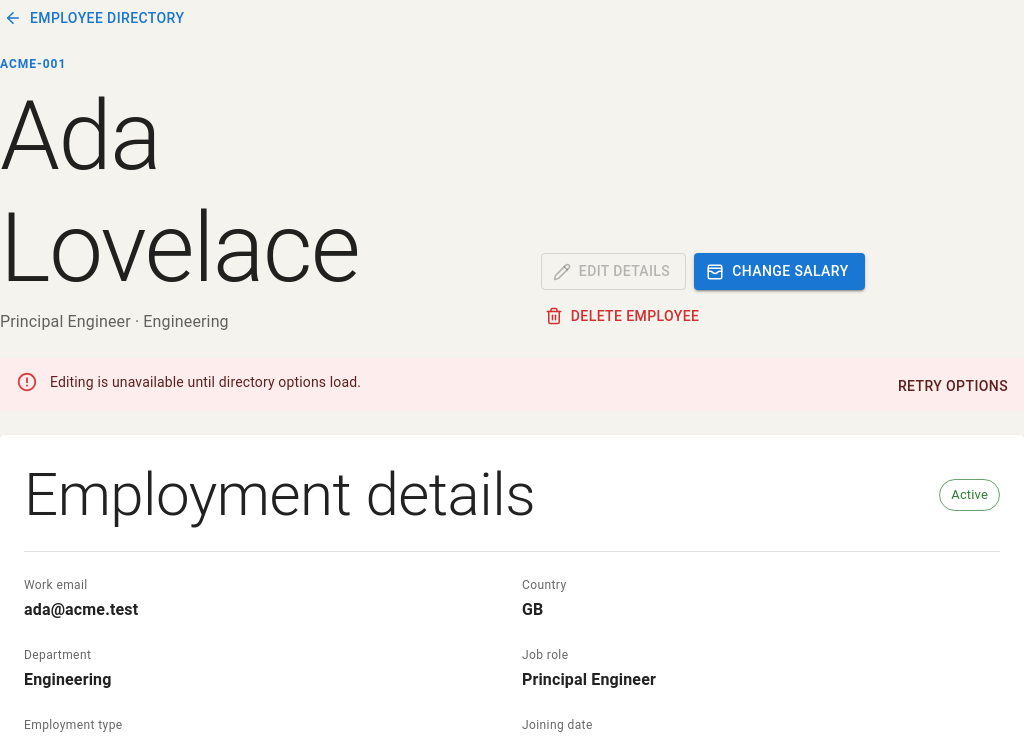
Test case: EmployeeDetails › blocks editing until failed directory options are retried successfully
The width and height of the screenshot is (1024, 740).
Expected: the heading "Ada Lovelace" is shown, 0,80 -> 359,304
Expected: the button "Edit details" is disabled, 541,254 -> 686,290
Click the button "Retry options".
click(953, 387)  # box 890,368 -> 1016,405
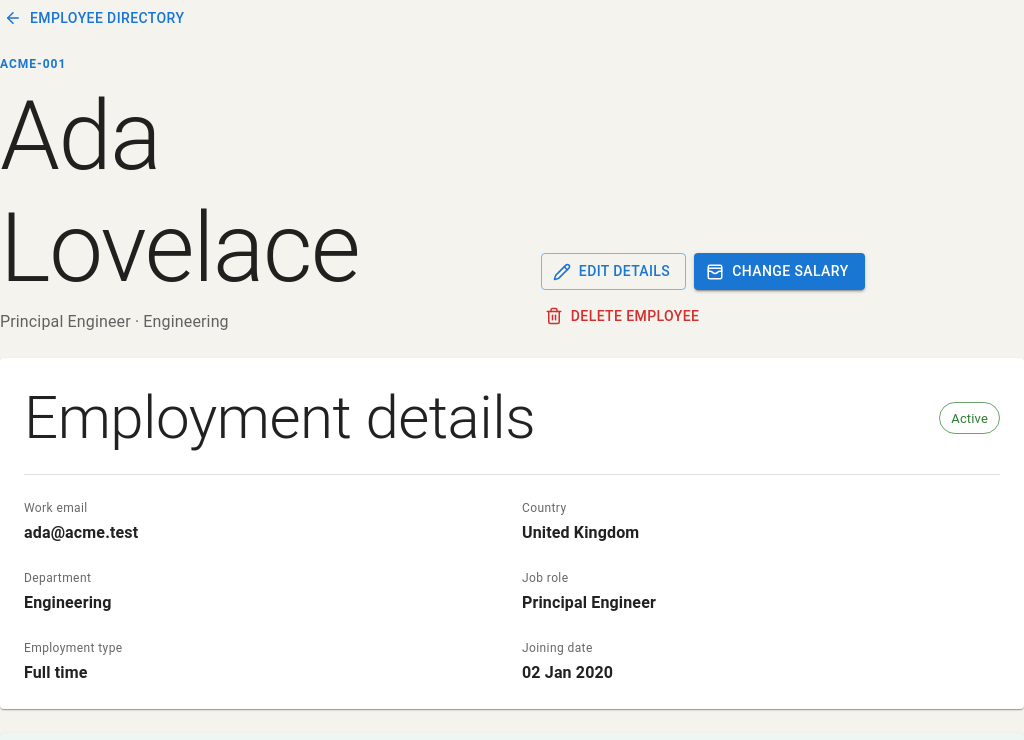
Result: the button "Edit details" is enabled at 541,254 -> 686,290
